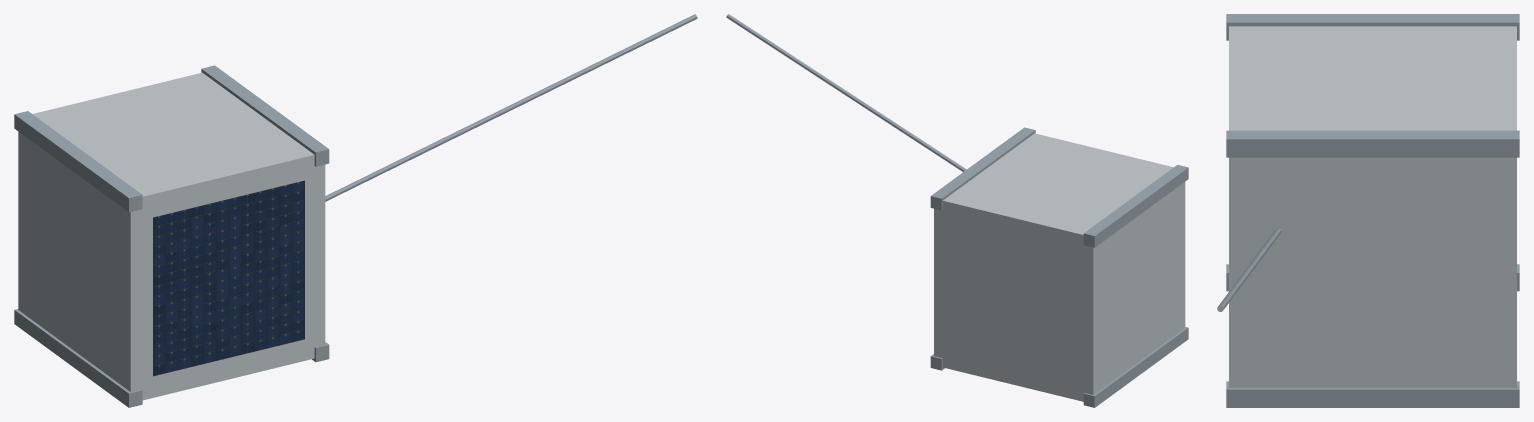
File: ref-cubesat-1u-40021.glb
3 views of the same model, side by side, from view 1: azimuth 30°, elevation 25°; view 2: azimuth 150°, elevation 25°; view 3: azimuth 270°, elevation 25° (orthographic). The views are drawn at different scales.
Visible parts, largest first — view 1: Spacecraft body, Body-mounted cells, Dispenser rail (×3), Antenna boom; view 2: Spacecraft body, Dispenser rail (×3), Antenna boom; view 3: Spacecraft body, Dispenser rail (×3), Antenna boom.
Part boxes in pixels (x1,y1,x2,y2): Spacecraft body: (18,72,325,400); Body-mounted cells: (153,180,304,376); Dispenser rail (×3): (14,65,329,407); Antenna boom: (325,14,697,201); Spacecraft body: (934,133,1185,401); Dispenser rail (×3): (930,127,1188,407); Antenna boom: (726,14,966,171); Spacecraft body: (1229,26,1516,387); Dispenser rail (×3): (1226,14,1519,407); Antenna boom: (1217,228,1281,311).
Bounding box in the file's own units: 0.2907 × 0.1265 × 0.1051.
Materials: 3 (1 with a texture image).
